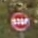stop: (9, 12, 30, 31)
